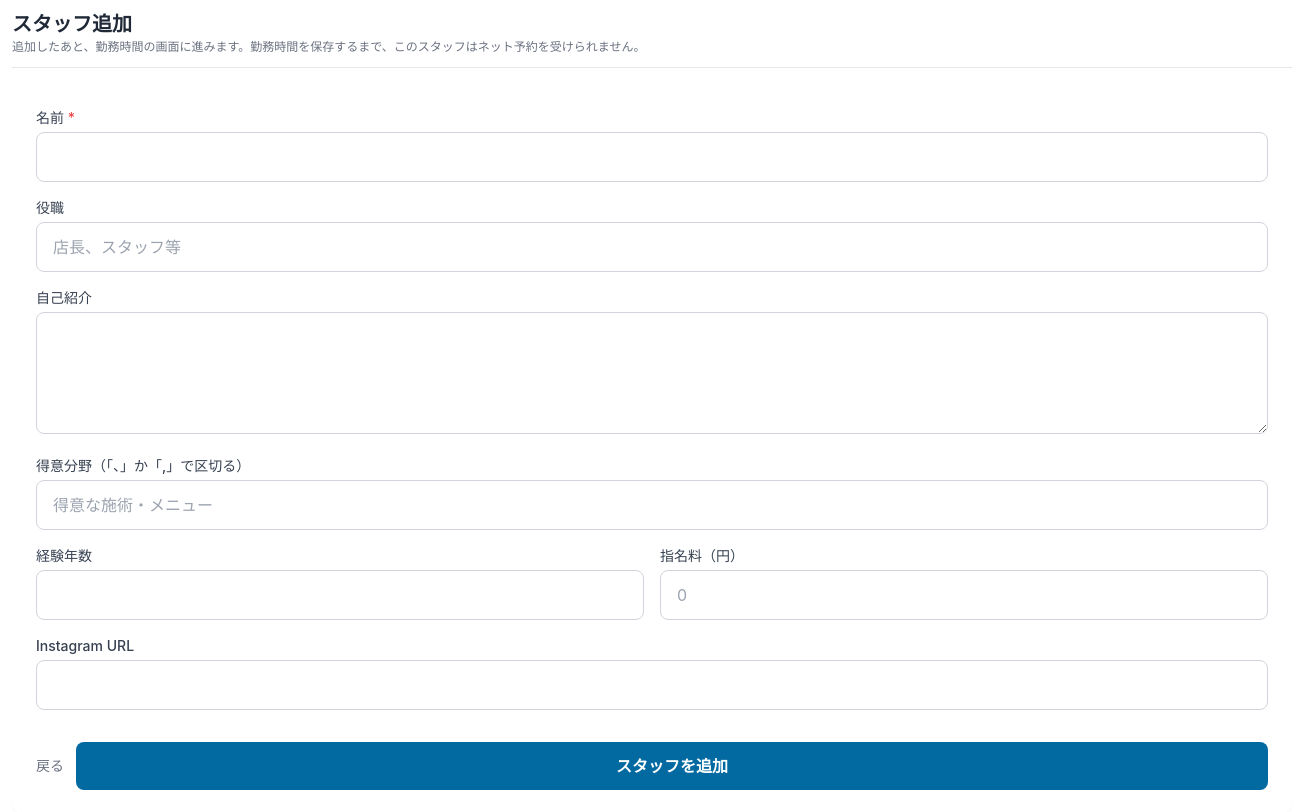
名前が空なら送らずに「名前は必須です」
Expected: the field labelled "名前 *" is shown, x1=36 y1=132 x2=1268 y2=182
Click the button "スタッフを追加": (672, 766) x1=76 y1=742 x2=1268 y2=790
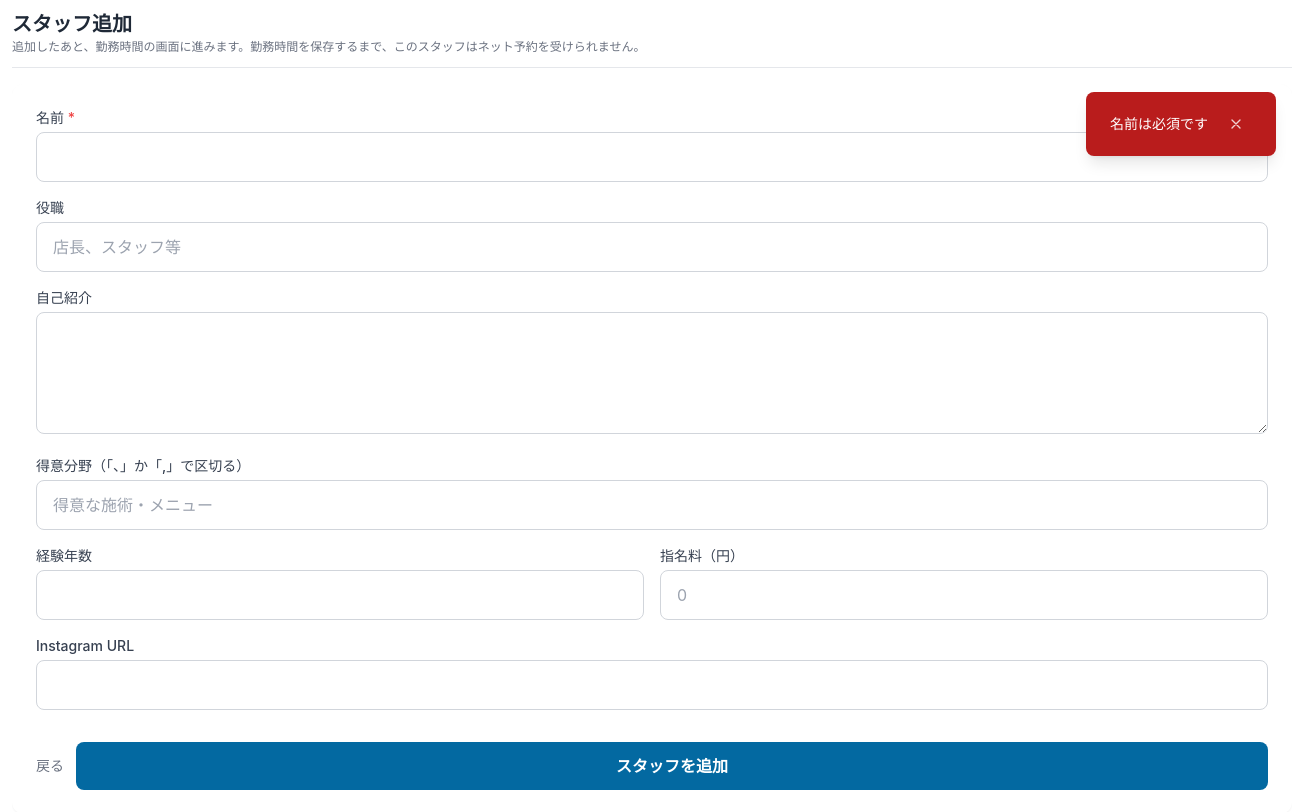
Expected: the text "名前は必須です" is shown, x1=1110 y1=114 x2=1208 y2=134
